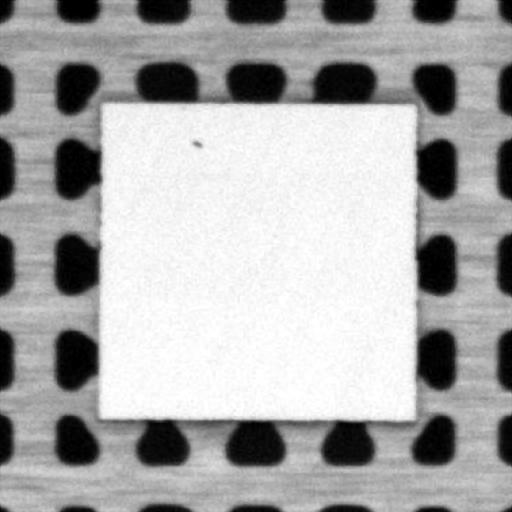DIE_INK: (190, 139, 200, 150)
